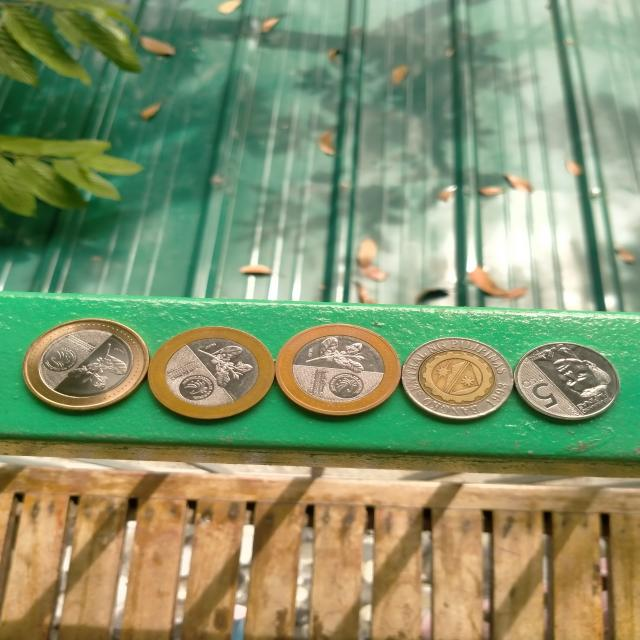10_Old_Back: (404, 340, 514, 420)
20_New_Back: (62, 336, 130, 392), (287, 332, 373, 376), (200, 337, 256, 391)
5_New_Front: (518, 373, 572, 411)
